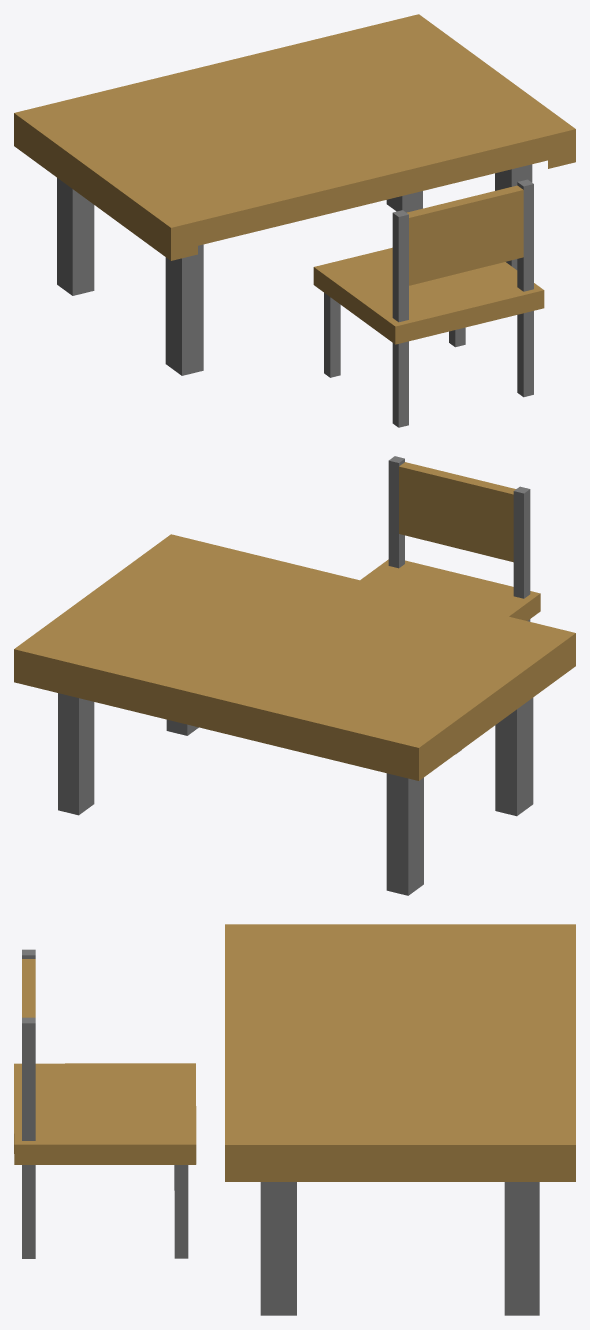
Rendered from teacher_table_chair.fbx.
3 views of the same model, one above another, from view 1: azimuth 30°, elevation 25°; view 2: azimuth 150°, elevation 25°; view 3: azimuth 270°, elevation 25° (orthographic). The views are drawn at different scales.
Parts seen in each view (by area): view 1: Plane, Plane.001; view 2: Plane, Plane.001; view 3: Plane, Plane.001.
Part boxes in pixels (box(x1,y1,x2,y2)): Plane: box(14, 14, 575, 375); Plane.001: box(313, 179, 544, 427); Plane: box(14, 534, 575, 895); Plane.001: box(360, 456, 540, 753); Plane: box(225, 924, 575, 1315); Plane.001: box(14, 949, 196, 1258).
Size of the model in its own units: 597 by 297 by 642.
